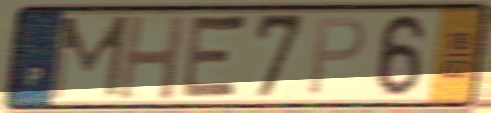6: (374, 11, 430, 102)
7: (252, 10, 307, 104)
E: (178, 11, 251, 103)
H: (114, 12, 189, 103)
M: (47, 13, 132, 103)
P: (305, 14, 369, 99)
